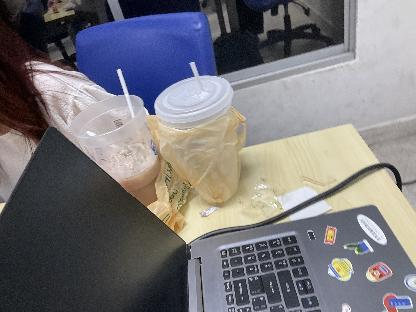Others: (152, 70, 242, 202), (69, 91, 163, 202), (152, 114, 244, 203), (156, 72, 234, 126), (146, 154, 190, 230), (276, 184, 334, 226), (249, 176, 282, 218), (116, 68, 134, 119), (84, 130, 118, 150), (194, 201, 226, 221), (188, 60, 206, 94)
